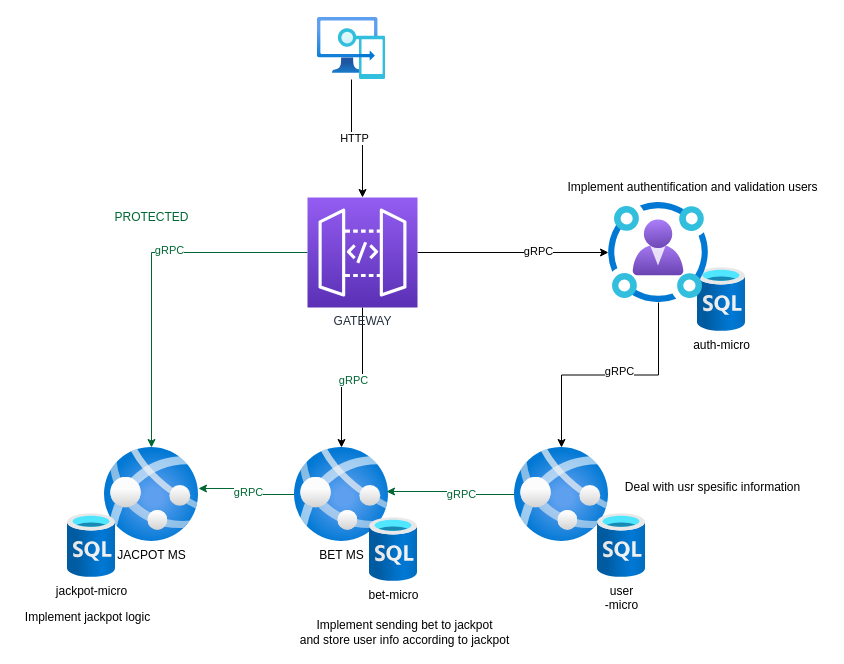
The diagram is 844 pixels wide and 664 high, and some of its shapes have lost their labels. The centre of each missing label's shape, as x and y in pixels:
"Auth MS" goes at point (658, 252).
"client" goes at point (351, 48).
"User MS" goes at point (561, 494).
